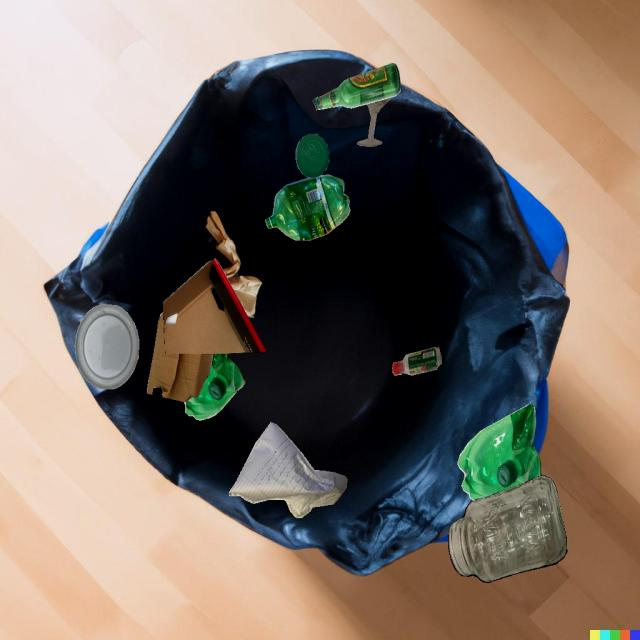cardboard: (163, 258, 266, 354), (147, 312, 213, 402)
glass: (448, 476, 567, 583), (313, 63, 401, 110), (357, 97, 391, 147)
paper: (229, 422, 347, 518), (205, 211, 262, 318)
plastic: (457, 404, 541, 501), (265, 174, 350, 240), (75, 304, 139, 389), (183, 354, 245, 420), (296, 134, 329, 178), (392, 347, 441, 375)
